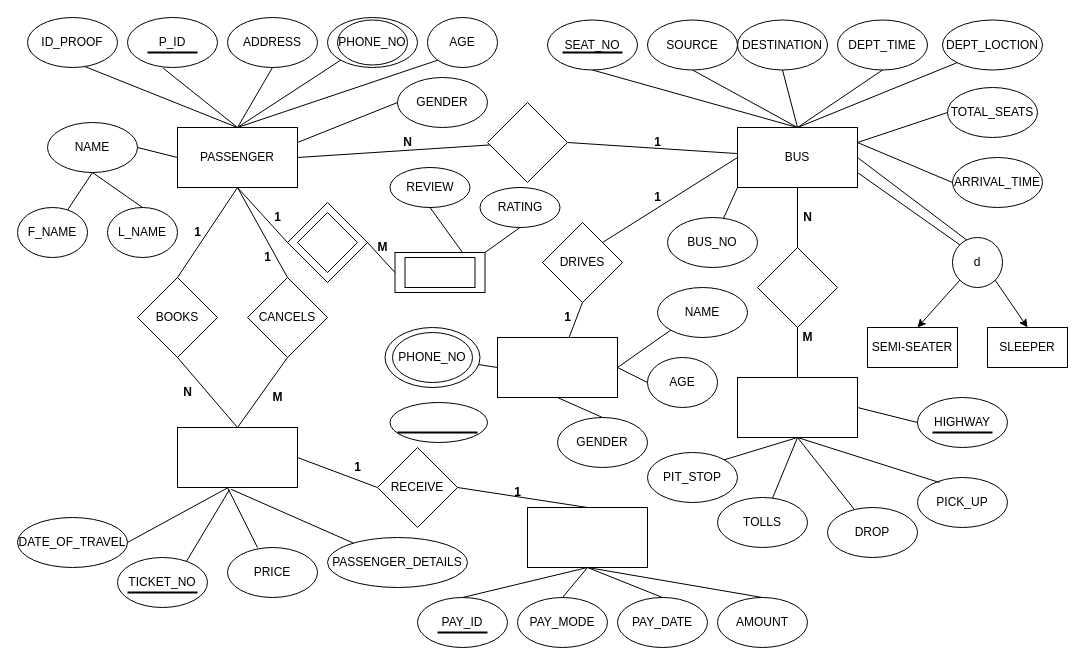
Image size: 1085x665. Some labels were removed from this diagram. Here are the shapes that lost their labels. From the top down, the centre of each, then its label:
point (527, 142): BOARDS
point (327, 242): GIVES
point (439, 272): FEEDBACK
point (797, 287): TRAVEL THROUGH
point (557, 367): DRIVER
point (438, 422): LICENSE_NO
point (797, 407): ROUTE
point (237, 457): TICKET
point (587, 537): PAYMENT
